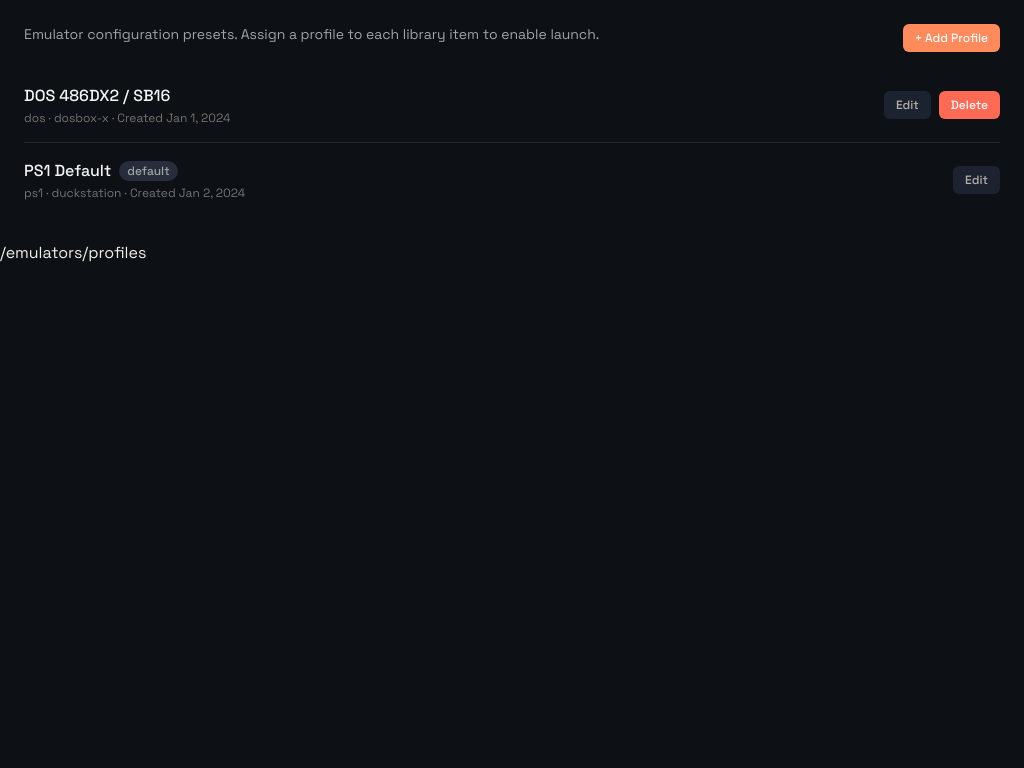
Test: Profiles (Emulators sibling tab), CRUD via modal › opens the ProfileForm modal in edit mode, pre-filled, without navigating to a :slug route
Expected: the text "DOS 486DX2 / SB16" is shown, [24,84,170,108]
Step 1. Click the button "Edit" in the row of "Jan 1, 2024" → (907, 105), box [884,91,931,119]
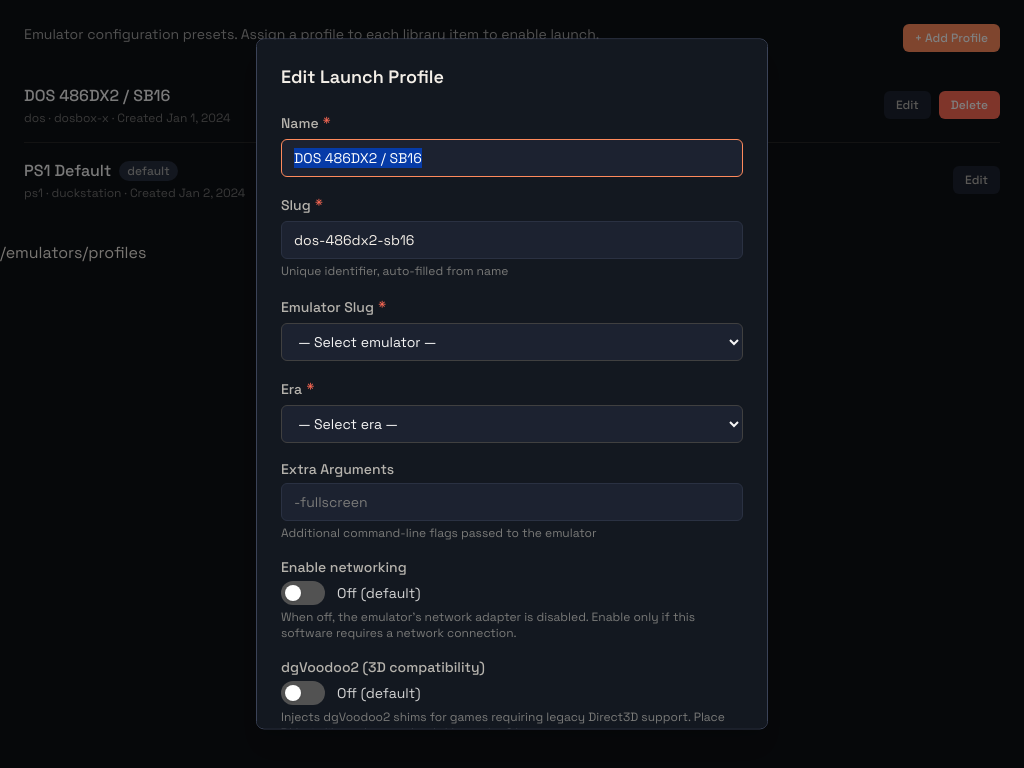
Result: the heading "Edit Launch Profile" is shown at [281,65,444,88]
Result: the field showing "DOS 486DX2 / SB16" is shown at [281,139,743,177]
Result: the field showing "dos-486dx2-sb16" is shown at [281,221,743,259]
